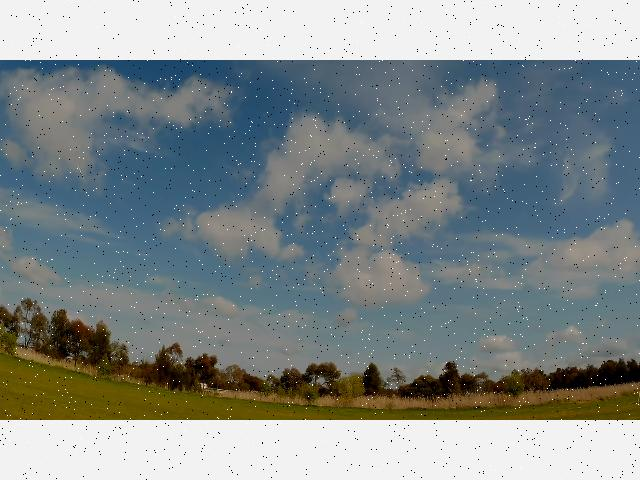Anti-Drone: (78, 165, 86, 181)
